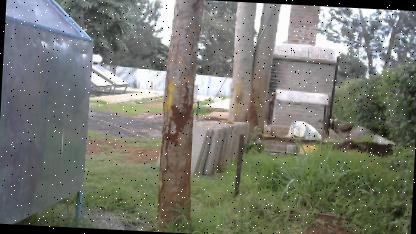tree: (153, 0, 209, 228), (218, 1, 282, 156)
